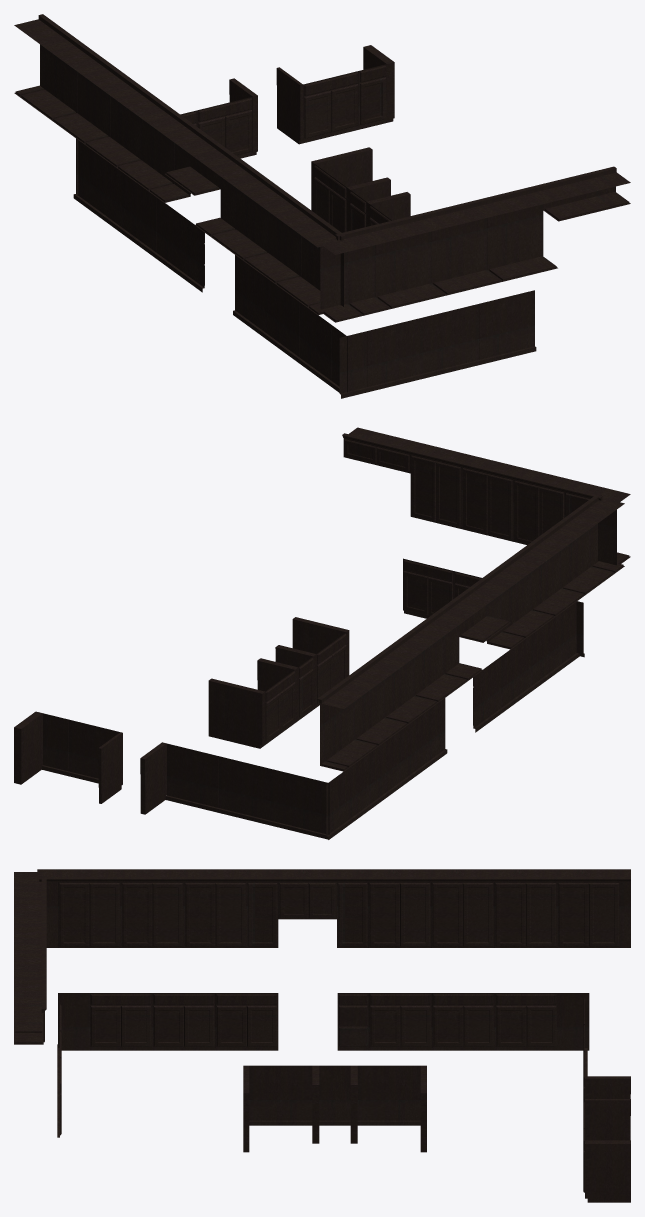
File: 2345_kitchen_cabinets_espresso.gltf
3 renders of one model, top to bottom at view 1: azimuth 30°, elevation 25°; view 2: azimuth 150°, elevation 25°; view 3: azimuth 270°, elevation 25°, orthographic. The views are drawn at different scales.
Parts seen in each view (by area): view 1: Kitchen Cabinets Epresso; view 2: Kitchen Cabinets Epresso; view 3: Kitchen Cabinets Epresso.
Boxes of the visible parts, x1,y1,x2,y2 form: Kitchen Cabinets Epresso: (14, 14, 630, 398); Kitchen Cabinets Epresso: (14, 427, 630, 839); Kitchen Cabinets Epresso: (14, 869, 630, 1202).
Bounding box in the file's own units: 6.4 × 2.93 × 9.8.
1 material, 1 textured.
